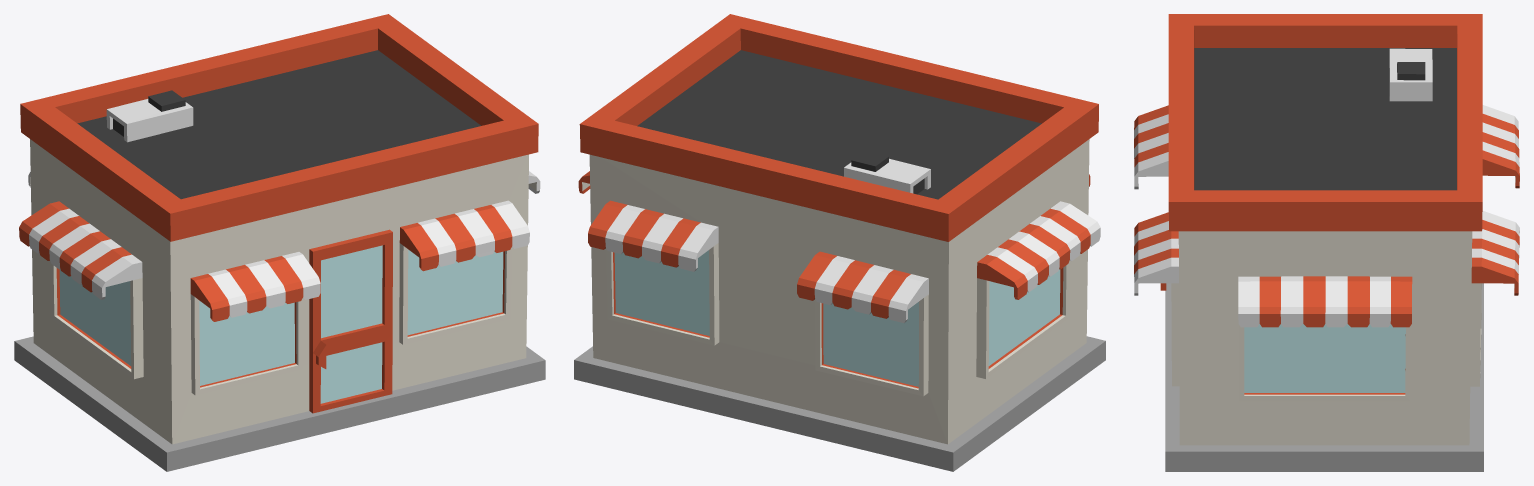
The model's file is Shop.glb.
The picture shows the model from 3 angles, left to right: view 1: azimuth 30°, elevation 25°; view 2: azimuth 150°, elevation 25°; view 3: azimuth 270°, elevation 25°; orthographic projection. The views are drawn at different scales.
Visible parts, largest first — view 1: Shop; view 2: Shop; view 3: Shop.
Part boxes in pixels (x1,y1,x2,y2): Shop: (14,14,545,471); Shop: (574,14,1105,471); Shop: (1134,14,1519,471).
Size of the model in its own units: 2.48 by 1.39 by 1.8.
